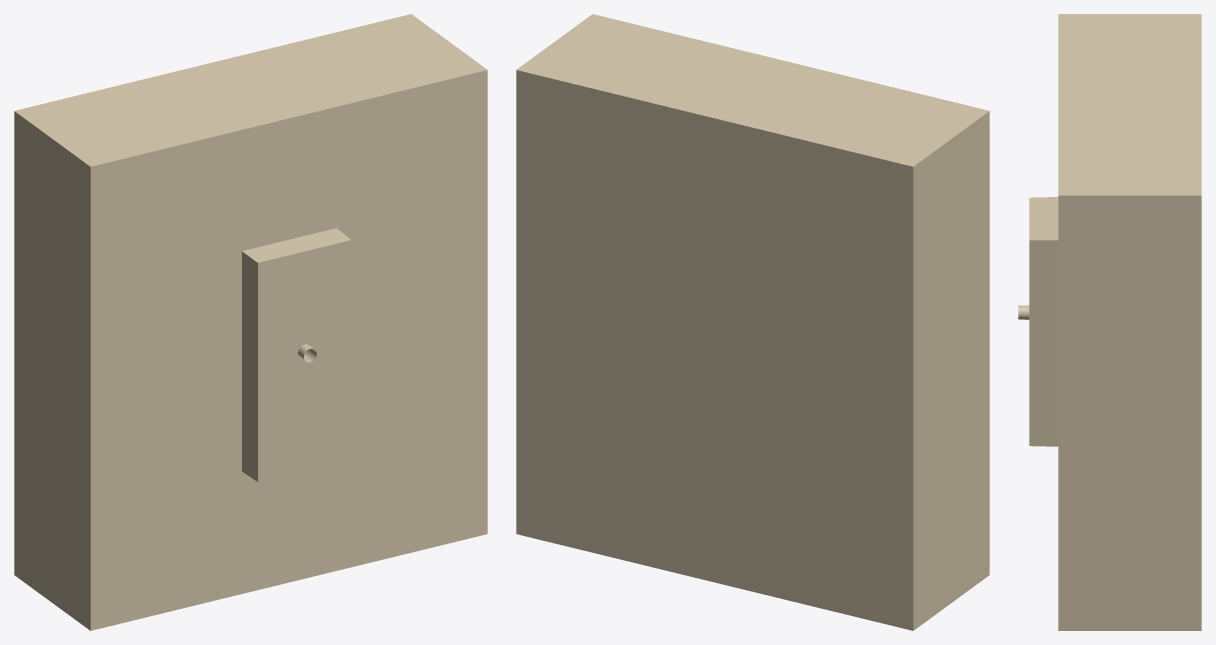
Rendered from .HemoSure_Optical_Block_CAVITY.step.glb.
The picture shows the model from 3 angles, left to right: view 1: azimuth 30°, elevation 25°; view 2: azimuth 150°, elevation 25°; view 3: azimuth 270°, elevation 25°; orthographic projection. The views are drawn at different scales.
Visible parts, largest first — view 1: o1; view 2: o1; view 3: o1.
Boxes of the visible parts, <box> form: o1: <box>14,14,487,630</box>; o1: <box>516,14,989,630</box>; o1: <box>1018,14,1201,630</box>.
Bounding box in the file's own units: 0.0603 × 0.0673 × 0.0257.
